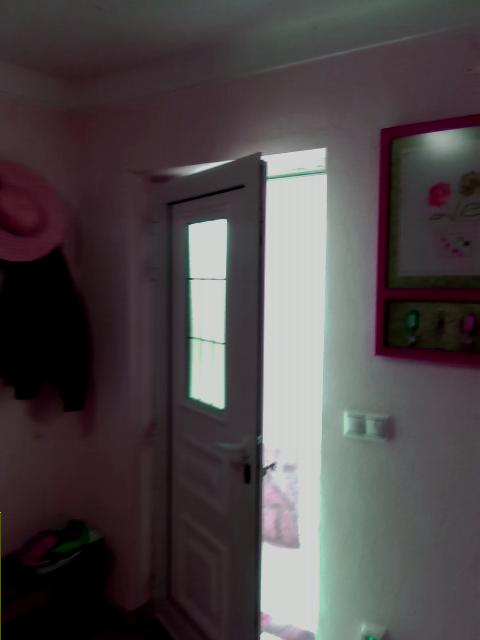semi_door: (151, 148, 325, 639)
